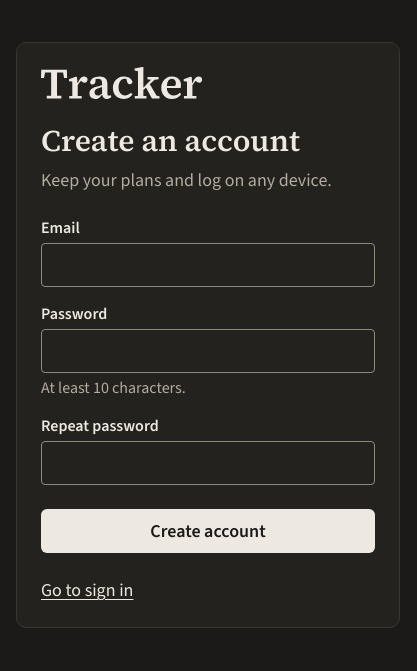
Test: creating an account › checks the two passwords match before sending, and returns to the repeat field
Type "new@example.com" into the field with id "signup-email". click: (208, 265)
box: [41,243,375,287]
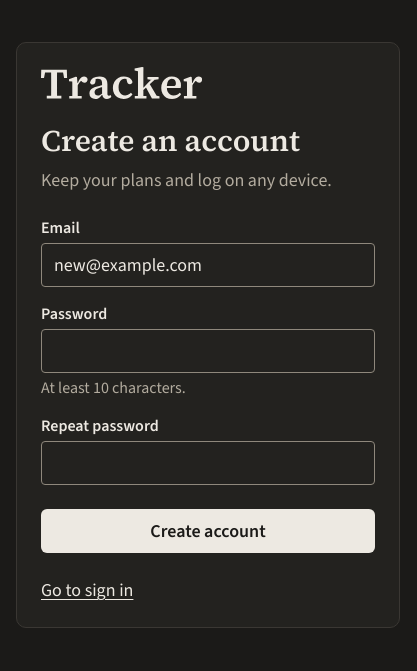
Type "a long new password" into the password field with id "signup-password". click: (208, 351)
box: [41,329,375,373]
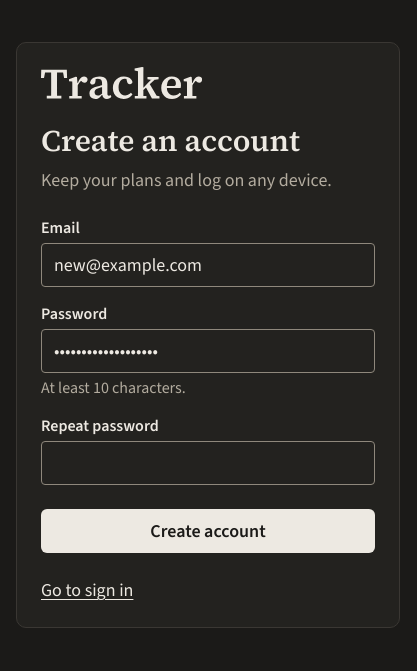
Type "something else" into the password field with id "signup-confirm". click: (208, 463)
box: [41,441,375,485]
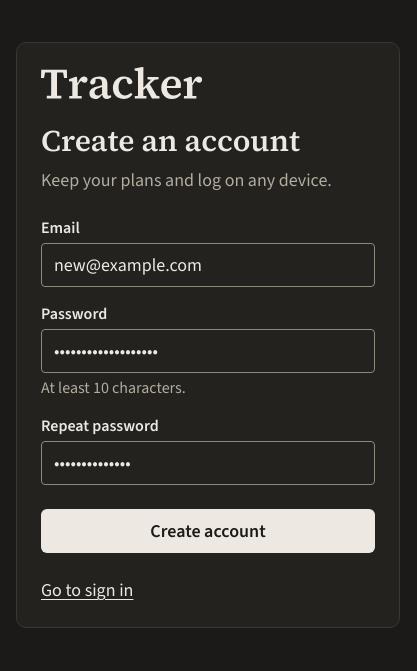
Submit the form, box [41,217,375,553]
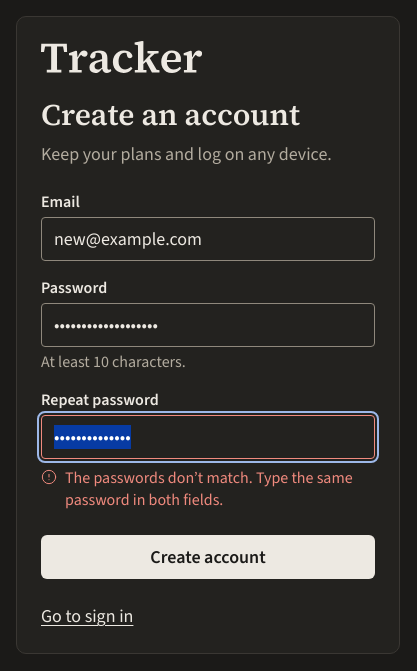
Now the message with id "signup-confirm-error" reads "The passwords don’t match. Type the same password in both fields.", box [65,467,353,510]
